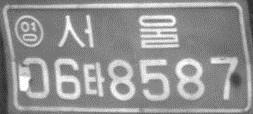0: (20, 56, 50, 100)
5: (138, 58, 170, 102)
6: (53, 56, 81, 100)
7: (209, 55, 239, 100)
8: (173, 57, 205, 101), (106, 58, 135, 101)
서울_D: (55, 14, 180, 49)
영: (13, 14, 44, 48)
타: (82, 61, 105, 97)
